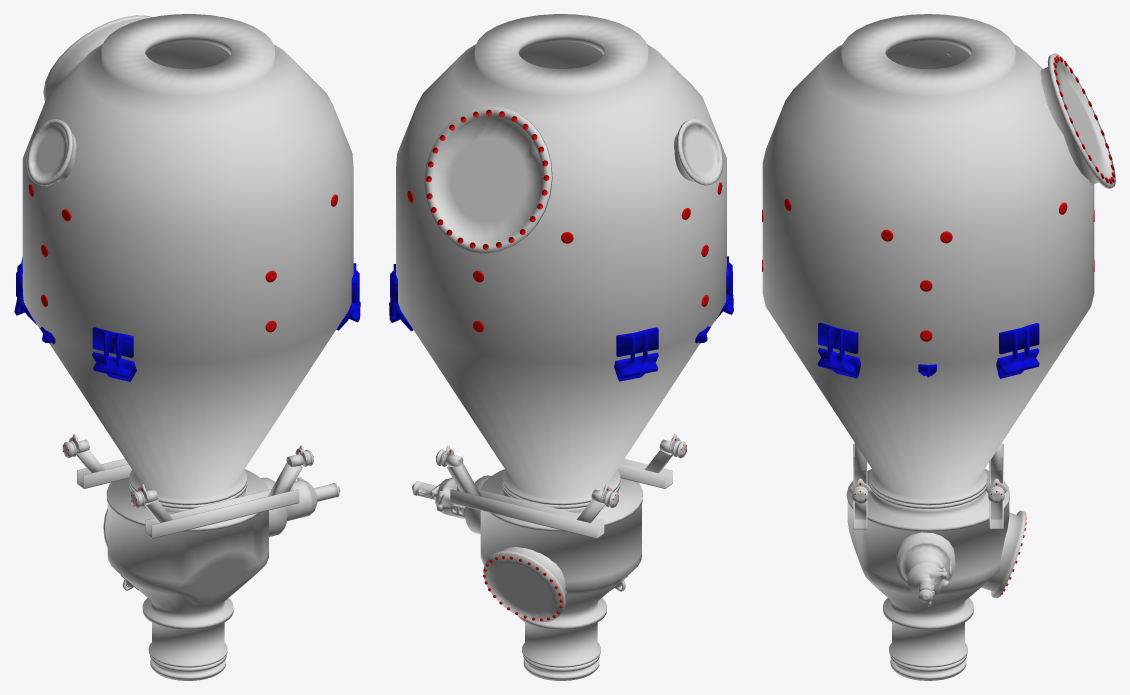
Rendered from bottom_tank_new.fbx.
3 renders of one model, left to right at view 1: azimuth 30°, elevation 25°; view 2: azimuth 150°, elevation 25°; view 3: azimuth 270°, elevation 25°, orthographic.
Parts seen in each view (by area): view 1: bottom_tank; view 2: bottom_tank; view 3: bottom_tank.
Boxes of the visible parts, x1=… form: bottom_tank: x1=14, y1=14, x2=360, y2=680; bottom_tank: x1=389, y1=14, x2=733, y2=680; bottom_tank: x1=762, y1=14, x2=1115, y2=680.
Bounding box in the file's own units: 591 × 1146 × 597.
